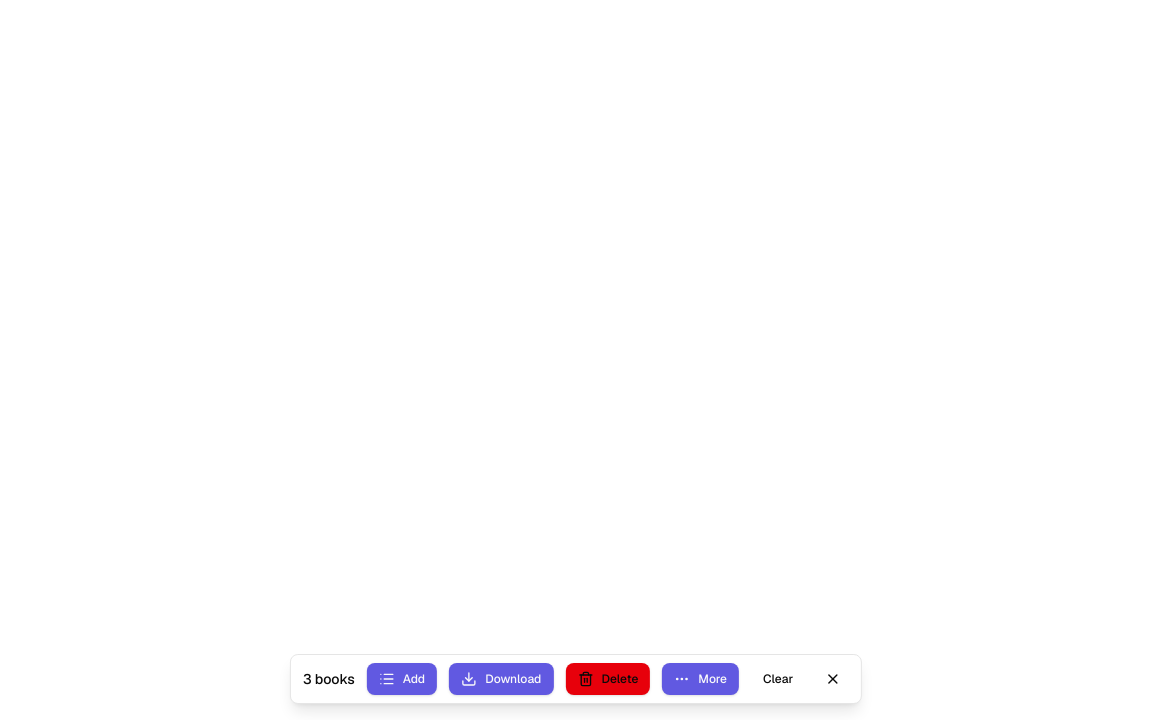
SelectionToolbar bulk review actions in the More popover › opens the More popover when clicked and shows both actions
Step 1. Click the button "More" → click(701, 679), box 662,663 -> 739,695
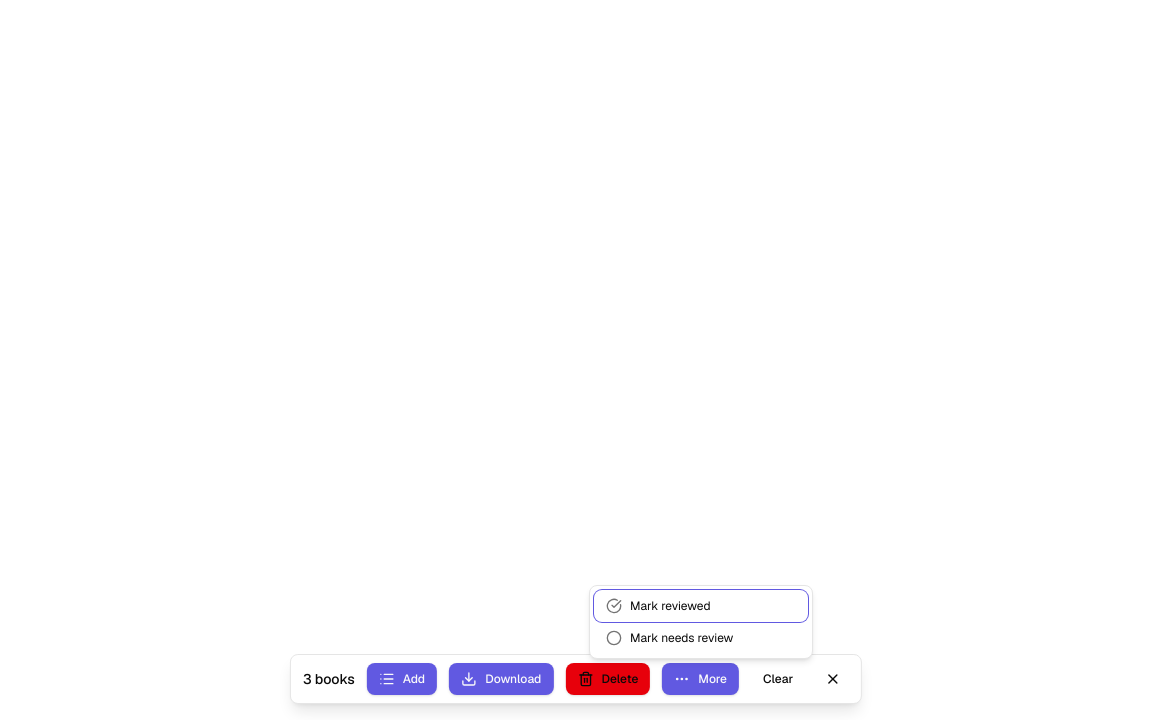
Now the button "Mark reviewed" is shown, box 594,590 -> 808,622
Now the button "Mark needs review" is shown, box 594,622 -> 808,654
